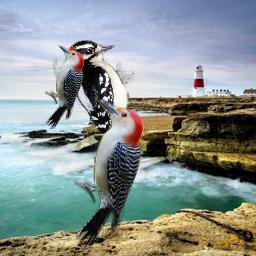Woodpecker: (74, 99, 144, 248), (68, 40, 134, 171), (45, 45, 84, 129)
